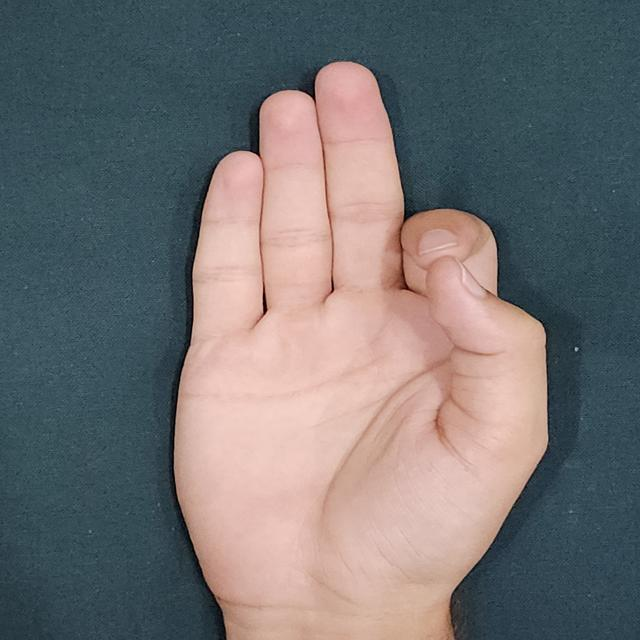ث: (144, 52, 557, 613)
